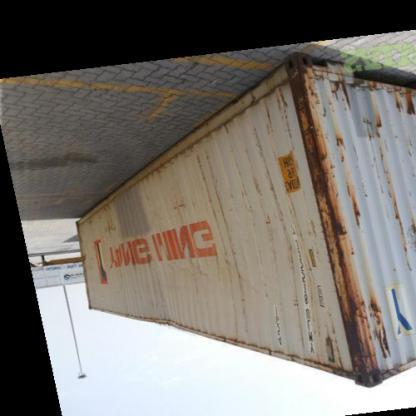Damage: (290, 69, 366, 253), (330, 282, 394, 378), (380, 170, 416, 268), (136, 308, 196, 335), (390, 91, 416, 126), (164, 202, 202, 224)
